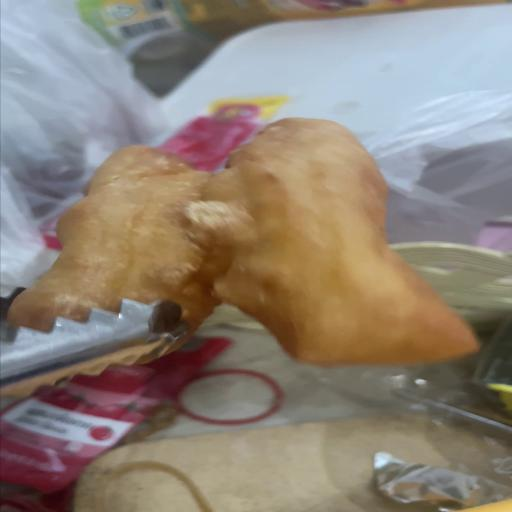street_golden_defect: (7, 119, 476, 369)
